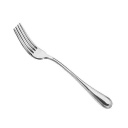fork: (9, 14, 112, 109)
